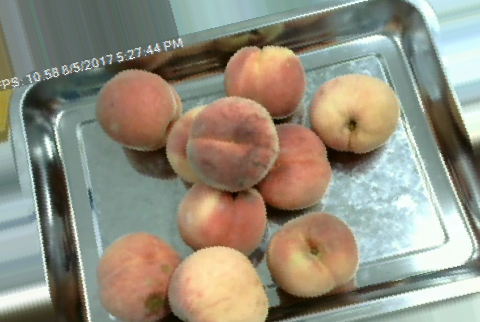Peach: (189, 94, 279, 189), (265, 210, 357, 298), (242, 119, 330, 211), (96, 231, 182, 322), (169, 246, 268, 322), (308, 72, 398, 155), (95, 68, 180, 153), (176, 182, 267, 253), (222, 44, 305, 118)
